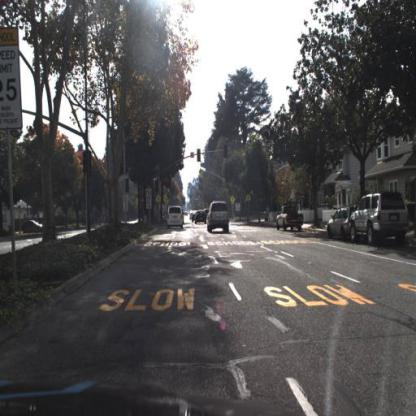car: (350, 190, 412, 245), (327, 203, 356, 245), (206, 201, 232, 236), (276, 202, 305, 233), (165, 202, 186, 231), (22, 217, 49, 235), (195, 210, 208, 226), (205, 211, 215, 223)
pedestrian: (266, 205, 271, 223)
trafficLight-Green: (156, 181, 161, 196), (225, 145, 230, 160), (198, 150, 202, 164)
